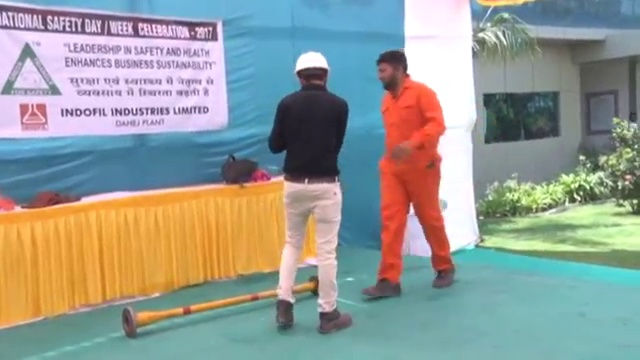helmet: (293, 51, 330, 73)
helmet_off: (374, 47, 409, 90)
helmet_on: (292, 50, 330, 90)
person: (269, 50, 352, 334), (366, 48, 459, 298)
